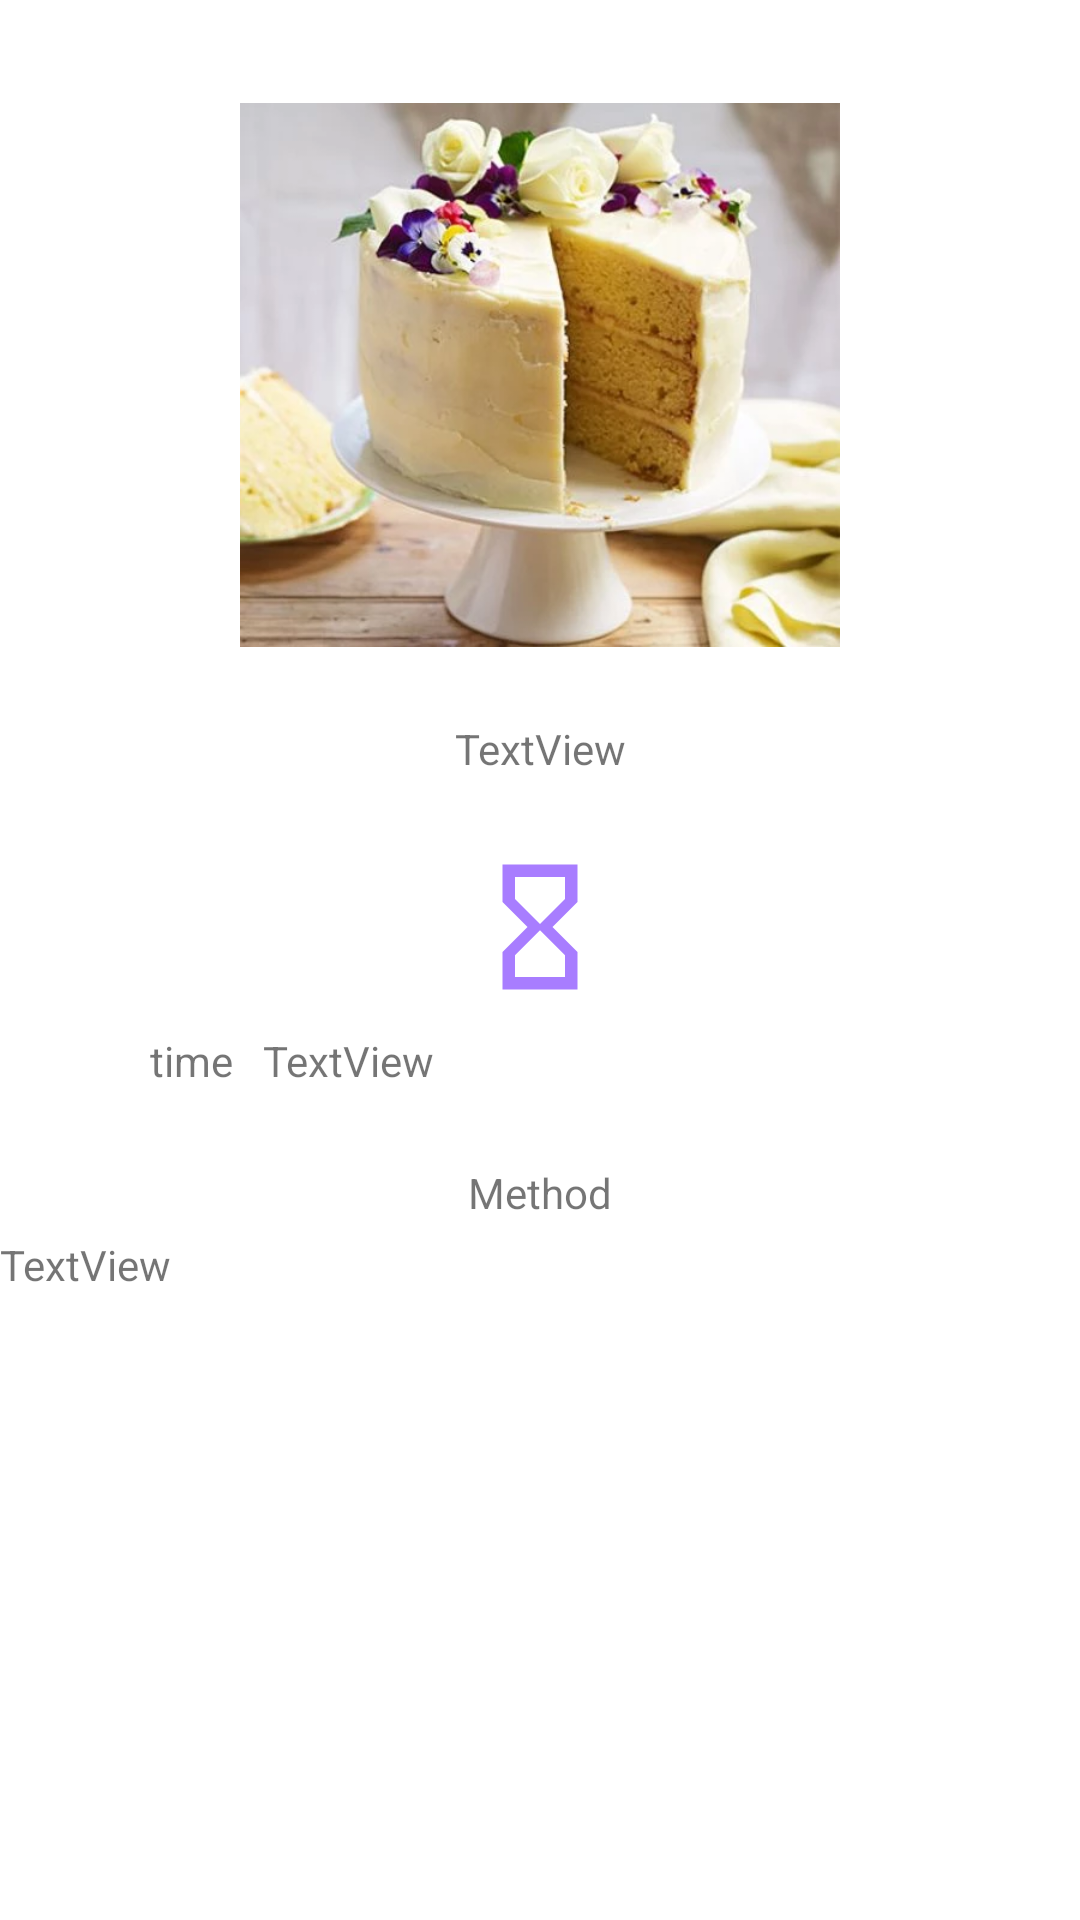

Icons on this 1080*1920 Android screen, each with its box as detection(x1, y1, x2, y2):
hourglass empty: detection(502, 864, 578, 990)
